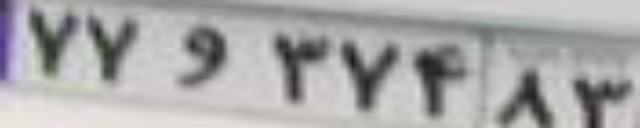3: (267, 29, 327, 105), (568, 76, 632, 126)
4: (411, 46, 470, 115)
7: (336, 35, 400, 112), (83, 11, 143, 82), (24, 8, 80, 78)
8: (491, 67, 555, 127)
vav: (170, 25, 229, 88)
